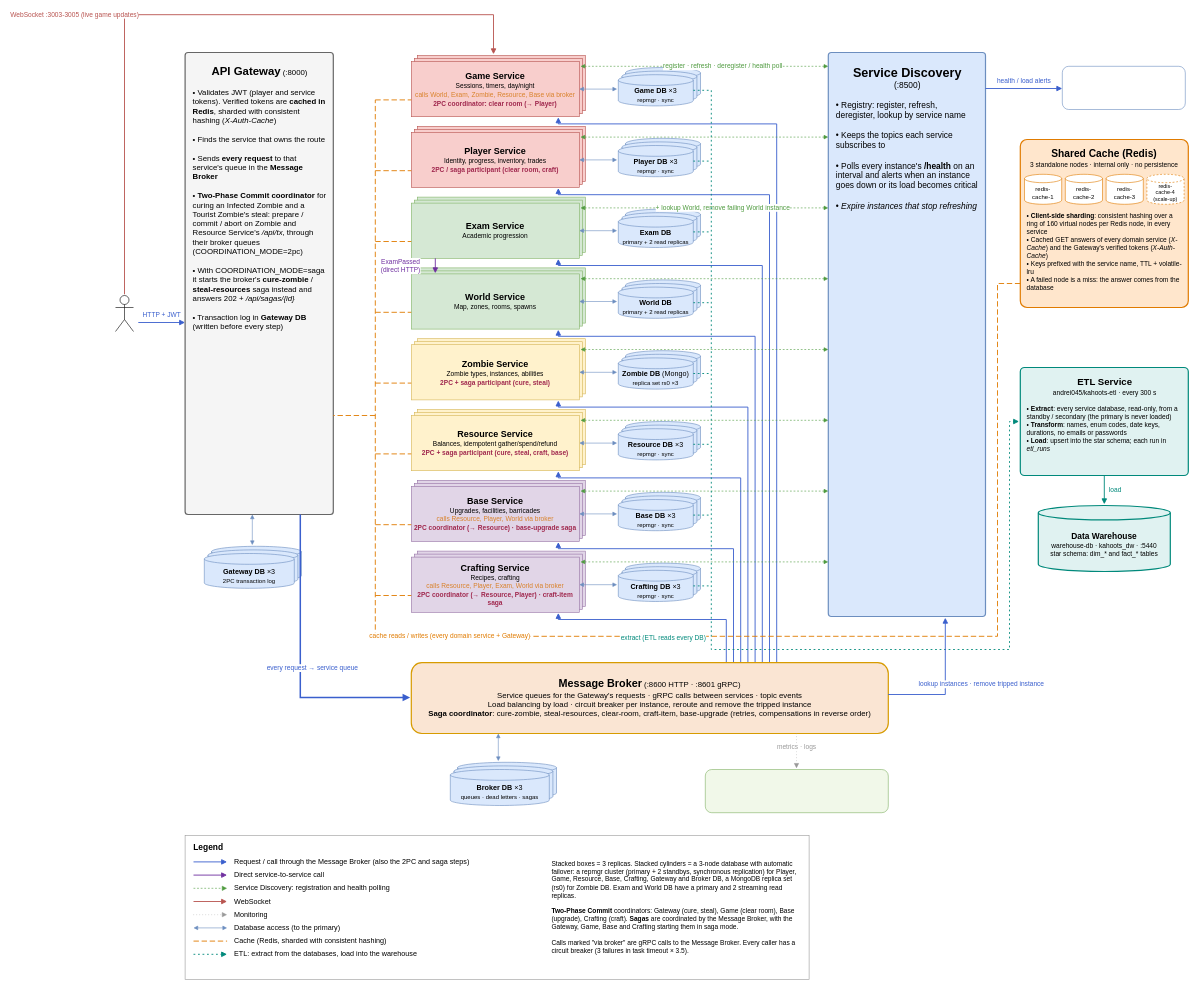
The diagram is 1199 pixels wide and 991 high, and some of its shapes have lost their labels. The centre of each missing label's shape, as x and y in pixels:
Discord / Telegram notifications to the developers: (x=1123, y=88)
Monitoring Prometheus · Alloy / Loki · Grafana: (x=796, y=791)
Players: (x=124, y=313)
